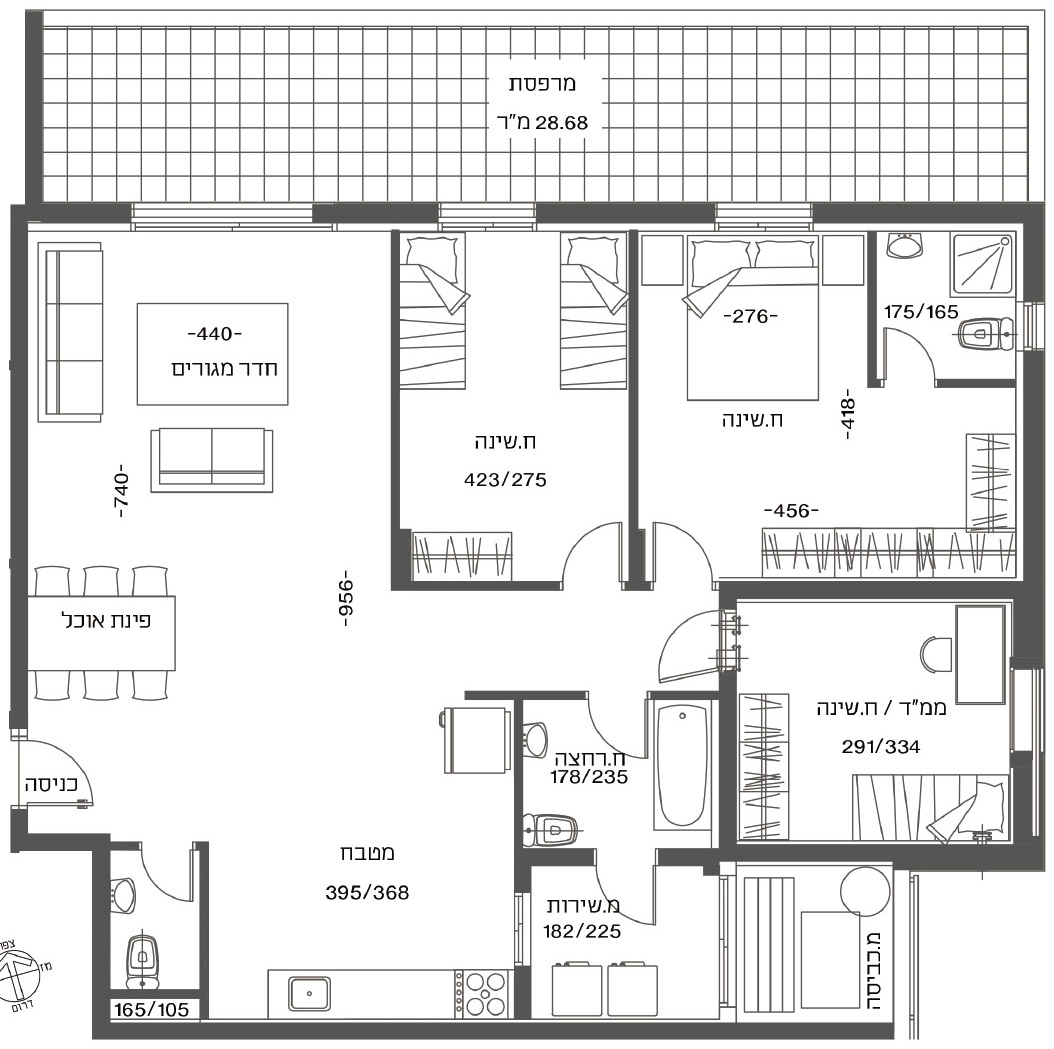door: (30, 736, 97, 814), (557, 519, 627, 581), (645, 517, 715, 579), (580, 703, 650, 765), (590, 868, 660, 930), (136, 852, 197, 905)
wall: (93, 1023, 893, 1040), (11, 204, 26, 728), (1025, 350, 1043, 672), (537, 202, 715, 232), (719, 582, 1045, 598), (813, 203, 1044, 224), (25, 10, 43, 220), (628, 230, 637, 531), (391, 231, 400, 532), (12, 203, 134, 222), (1023, 202, 1045, 302)
window: (132, 200, 313, 231), (715, 203, 813, 233), (1009, 671, 1044, 752), (437, 203, 538, 231), (718, 875, 736, 1009), (512, 892, 531, 966), (1021, 302, 1044, 351)
